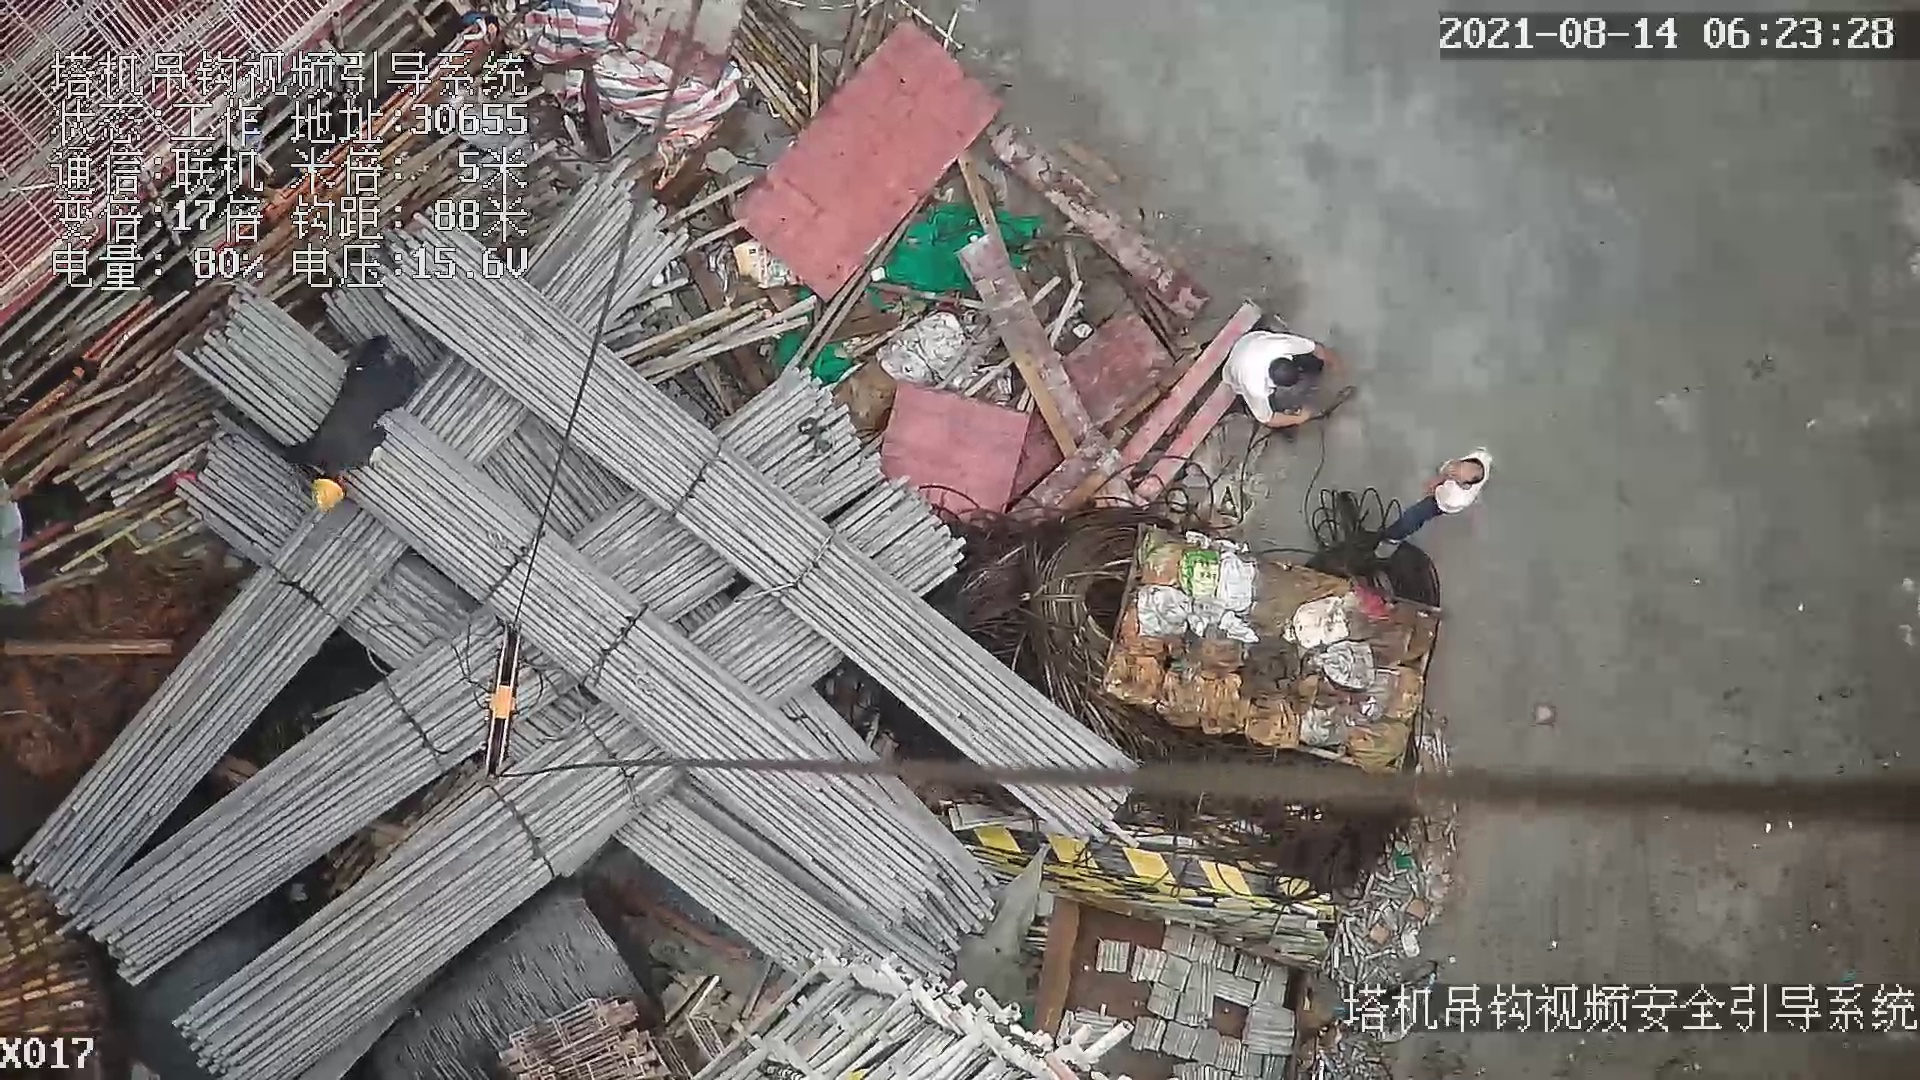helmet: (303, 458, 358, 514)
hook: (467, 618, 531, 792)
person: (287, 326, 420, 510), (1378, 427, 1496, 565), (1226, 331, 1345, 437)
